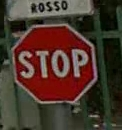stop: (11, 22, 98, 104)
